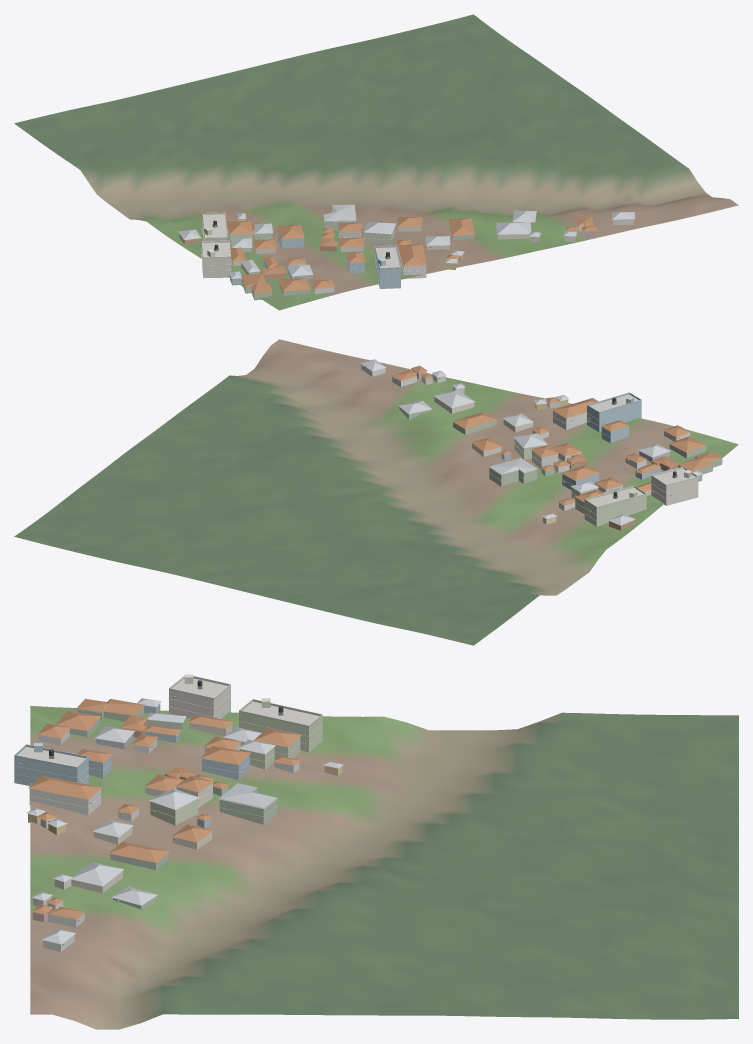
3 views of the same model, one above another, from view 1: azimuth 30°, elevation 25°; view 2: azimuth 150°, elevation 25°; view 3: azimuth 270°, elevation 25° (orthographic). The views are drawn at different scales.
Parts seen in each view (by area): view 1: Terrain-col, Buildings-col, Details; view 2: Terrain-col, Buildings-col, Details; view 3: Terrain-col, Buildings-col, Details.
Part boxes in pixels (bbox=[...]): Terrain-col: bbox=[14, 14, 738, 310]; Buildings-col: bbox=[178, 204, 634, 300]; Details: bbox=[186, 212, 586, 289]; Terrain-col: bbox=[14, 339, 738, 645]; Buildings-col: bbox=[360, 359, 722, 530]; Details: bbox=[361, 365, 698, 521]; Terrain-col: bbox=[30, 706, 738, 1029]; Buildings-col: bbox=[14, 678, 343, 951]; Details: bbox=[14, 674, 322, 945].
Size of the model in its own units: 266 by 22.48 by 262.
